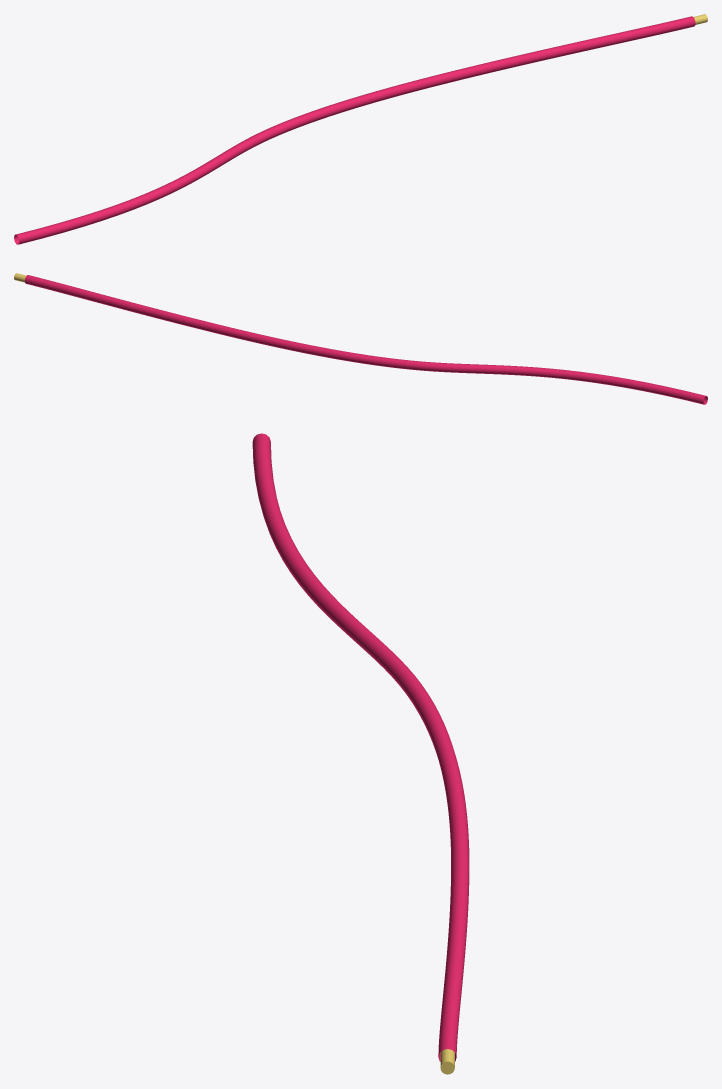
File: Kabel.fbx
The picture shows the model from 3 angles, top to bottom: view 1: azimuth 30°, elevation 25°; view 2: azimuth 150°, elevation 25°; view 3: azimuth 270°, elevation 25°; orthographic projection. The views are drawn at different scales.
Parts seen in each view (by area): view 1: NurbsPath.001; view 2: NurbsPath.001; view 3: NurbsPath.001.
Part boxes in pixels (x1,y1,x2,y2): NurbsPath.001: (14,16,695,244); NurbsPath.001: (24,275,707,404); NurbsPath.001: (252,433,469,1061).
Bounding box in the file's own units: 162 × 2.18 × 23.7.
